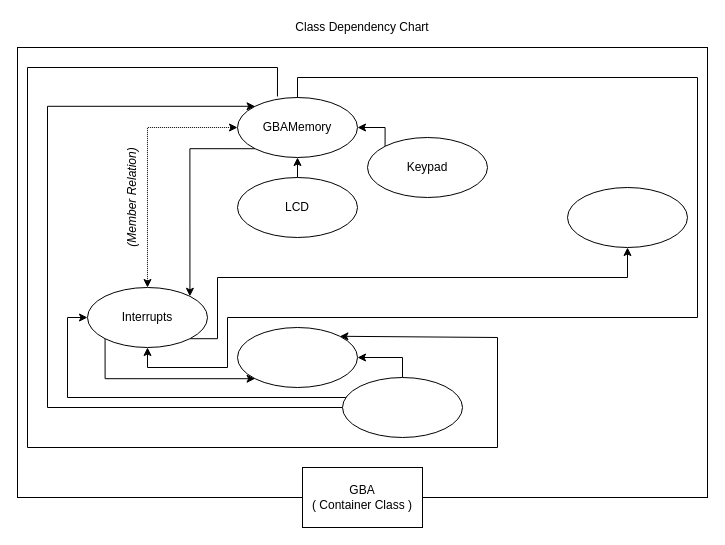
Some shapes in this 725 by 545 pixel diagram are drawn without their labels. The box of each missing label's shape, as (x1, y1, x2, y2) in pixels:
ARM7TDMI: (342, 376, 462, 438)
CPUState: (236, 326, 358, 388)
Scheduler: (566, 186, 688, 248)
